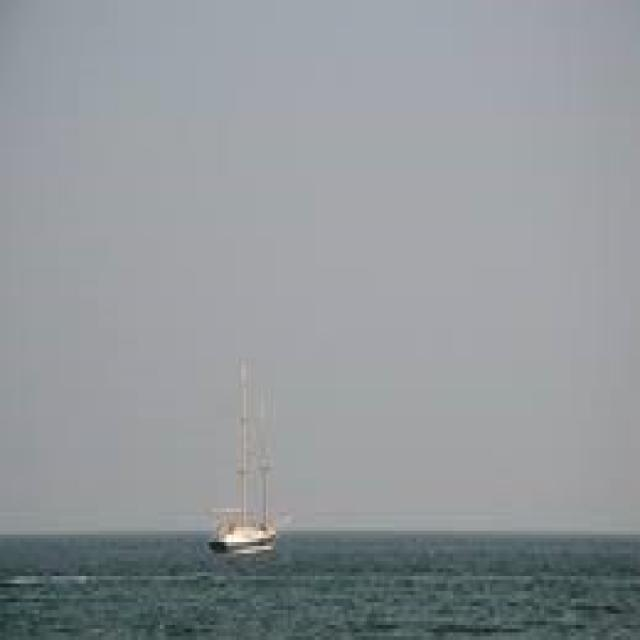fishing boat: (211, 345, 295, 558)
